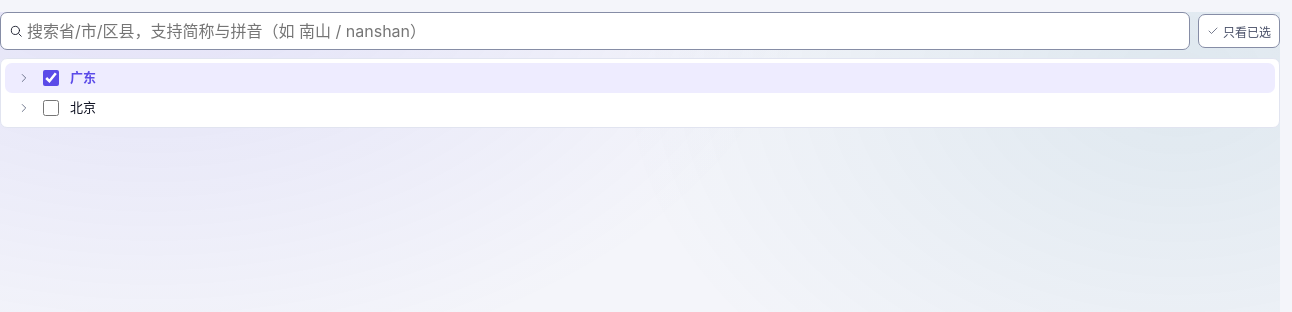
DistrictTree · 勾选语义 › 祖先已选 → 展开后后代勾中、禁用且置灰（再选只是白占名额）
Click the button with test id "district-expand-440000".
click(24, 78)  # box [13,67,35,89]
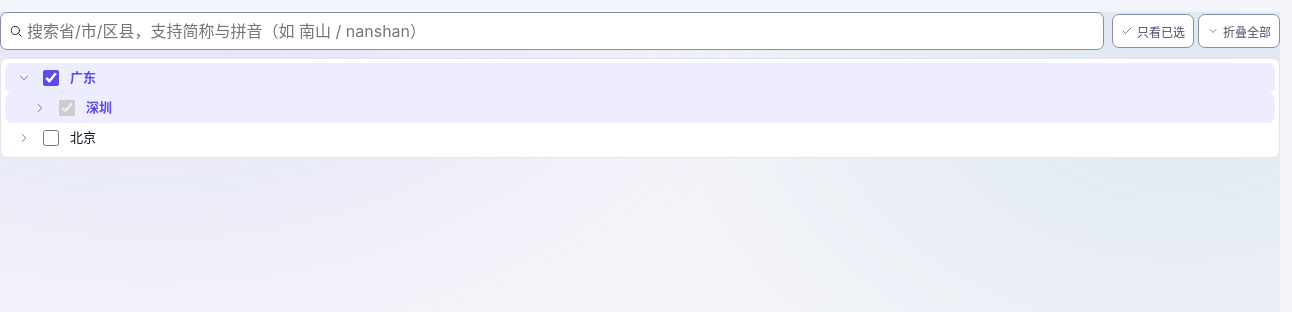
Expected: the checkbox with test id "district-opt-440300" is checked, [59,100,75,116]
Expected: the checkbox with test id "district-opt-440300" is disabled, [59,100,75,116]
